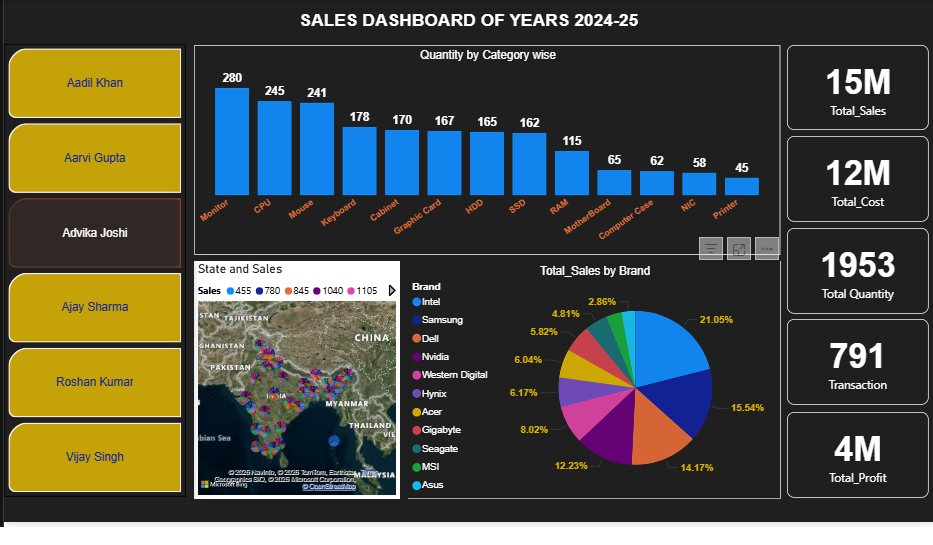

What the dashboard file says about the page in this screenshot:
{"tool":"powerbi","page":{"name":"Page 1","canvas":[1280,720],"ordinal":0},"visuals":[{"type":"card","fields":{"Values":["Sales_Data.Total_Sales"]},"box":[1077.7,63.3,195.4,117],"z":0},{"type":"textbox","box":[0,9.6,1280,44],"z":1000},{"type":"card","fields":{"Values":["Sales_Data.Total_Cost"]},"box":[1077.7,188.6,195,118],"z":2000},{"type":"card","fields":{"Values":["Sales_Data.Quantity"]},"box":[1077.7,315.2,195,118],"z":3000},{"type":"card","fields":{"Values":["Sales_Data.Order_Number"]},"box":[1077.7,440.4,195,118],"z":4000},{"type":"card","fields":{"Values":["Sales_Data.Total_Profit"]},"box":[1077.7,568.4,195,118],"z":5000},{"type":"clusteredColumnChart","title":"Quantity by Category wise","fields":{"Category":["Sales_Data.Category"],"Y":["Sales_Data.Quantity"]},"box":[261.4,62.9,807.1,288.6],"z":6000},{"type":"pieChart","title":"Total_Sales by Brand","fields":{"Y":["Sales_Data.Sales"],"Category":["Sales_Data.Brand"]},"box":[555.7,360,512.9,327.1],"z":7000},{"type":"map","fields":{"Category":["State_list.State"],"Series":["Sales_Data.Sales"]},"box":[261.4,360,282.9,327.1],"z":8000},{"type":"advancedSlicerVisual","fields":{"Values":["Supervisor.Supervisor"]},"box":[0,61.9,250.5,623.5],"z":9000}]}

Visuals, with their boxes in screenshot pixels (x1, y1, x2, y2):
card - Sales_Data.Total_Sales: detection(782, 48, 922, 132)
textbox: detection(7, 9, 927, 41)
card - Sales_Data.Total_Cost: detection(782, 138, 922, 223)
card - Sales_Data.Quantity: detection(782, 229, 922, 314)
card - Sales_Data.Order_Number: detection(782, 319, 922, 404)
card - Sales_Data.Total_Profit: detection(782, 411, 922, 496)
"Quantity by Category wise" clusteredColumnChart: detection(195, 48, 775, 255)
"Total_Sales by Brand" pieChart: detection(407, 261, 775, 496)
map - State_list.State x Sales_Data.Sales: detection(195, 261, 399, 496)
advancedSlicerVisual - Supervisor.Supervisor: detection(7, 47, 187, 495)
